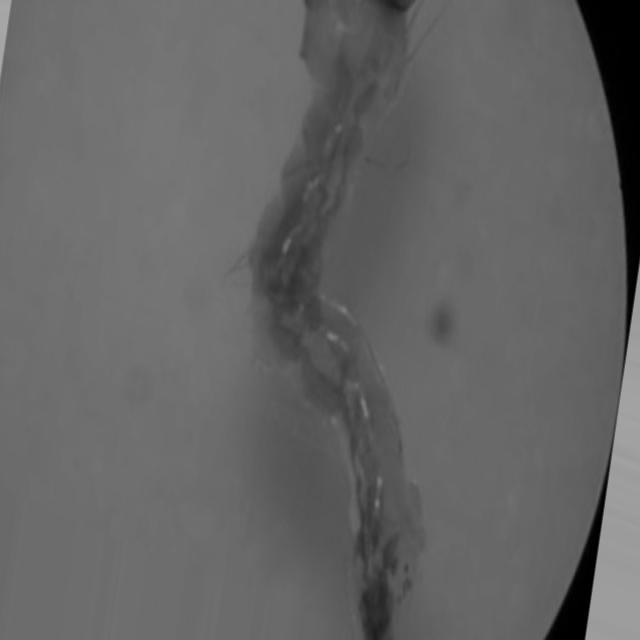larvas: (249, 0, 416, 640)
